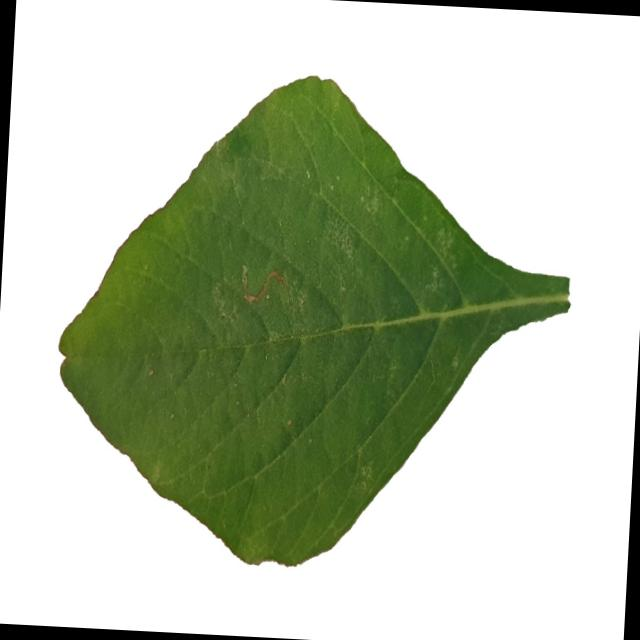Medicinal-Arive Dantu: (47, 62, 583, 584)
